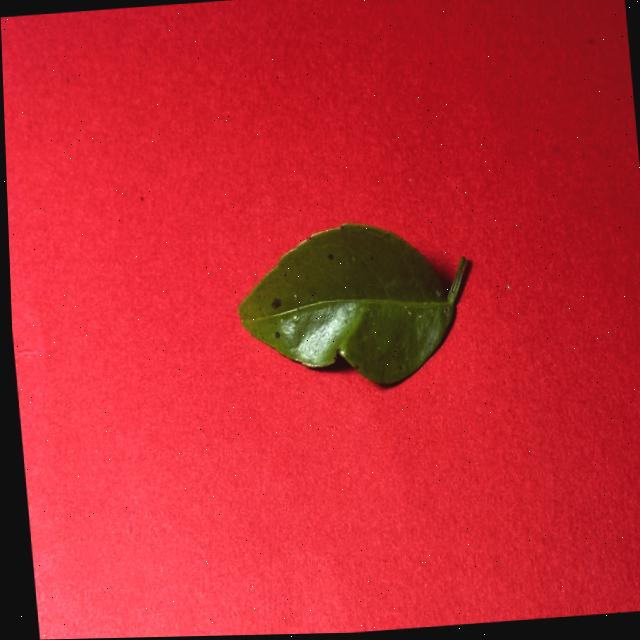sooty_mold: (239, 223, 463, 382)
